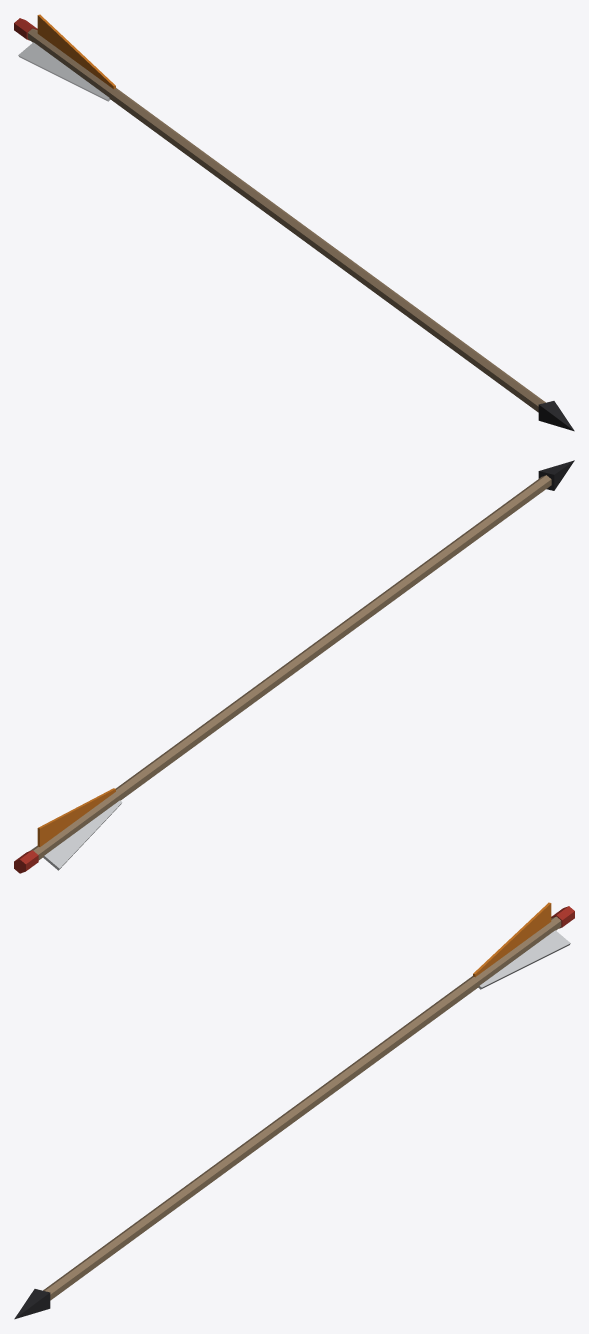
Rendered from arrow.glb.
The picture shows the model from 3 angles, top to bottom: view 1: azimuth 30°, elevation 25°; view 2: azimuth 150°, elevation 25°; view 3: azimuth 330°, elevation 25°; orthographic projection.
Visible parts, largest first — view 1: Arrow; view 2: Arrow; view 3: Arrow.
Part boxes in pixels (left/top/right/bottom): Arrow: left=14, top=14, right=574, bottom=431; Arrow: left=14, top=460, right=574, bottom=873; Arrow: left=14, top=902, right=574, bottom=1319.
Bounding box in the file's own units: 0.0303 × 0.0263 × 0.702.
